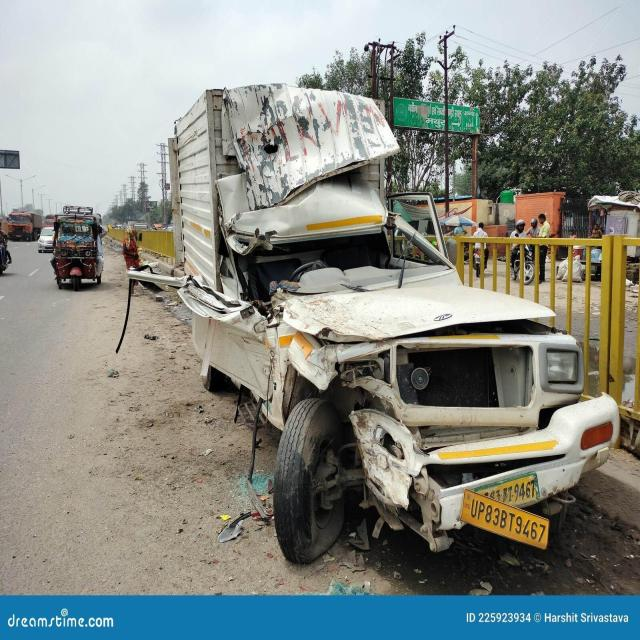accident: (170, 84, 620, 562)
autorickshaw: (54, 206, 102, 290)
